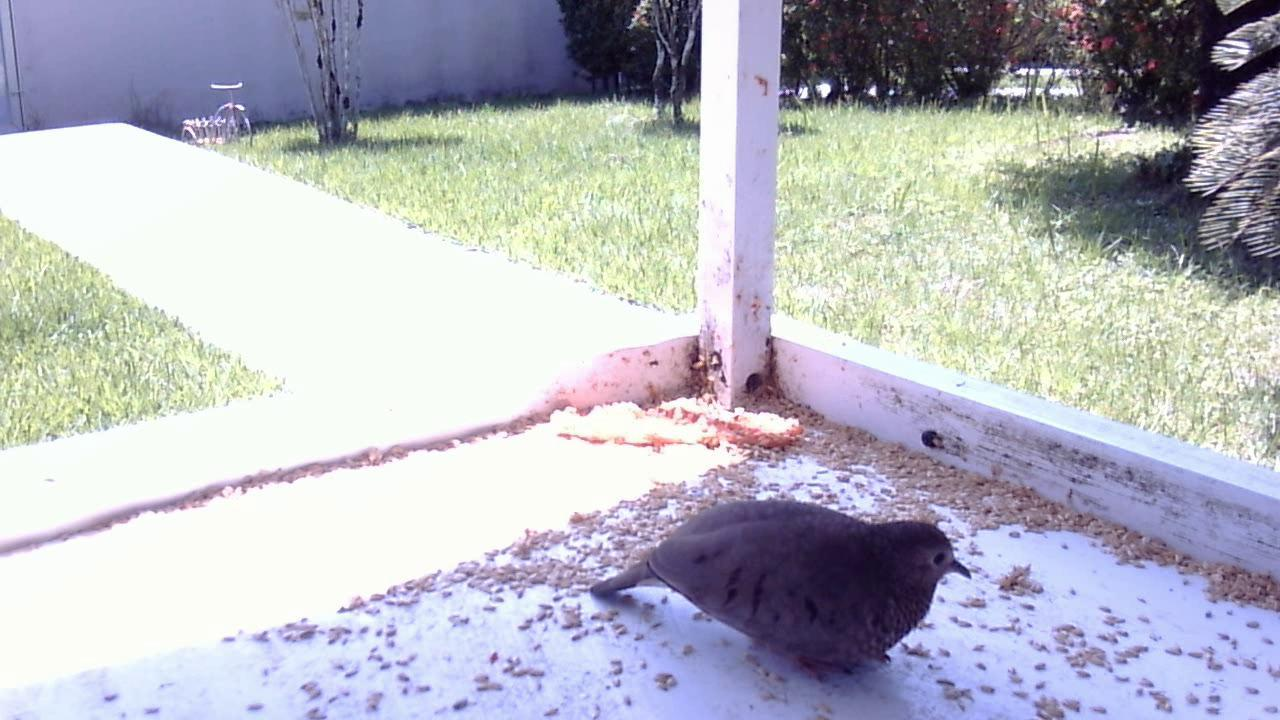rolinha: (576, 480, 980, 697)
